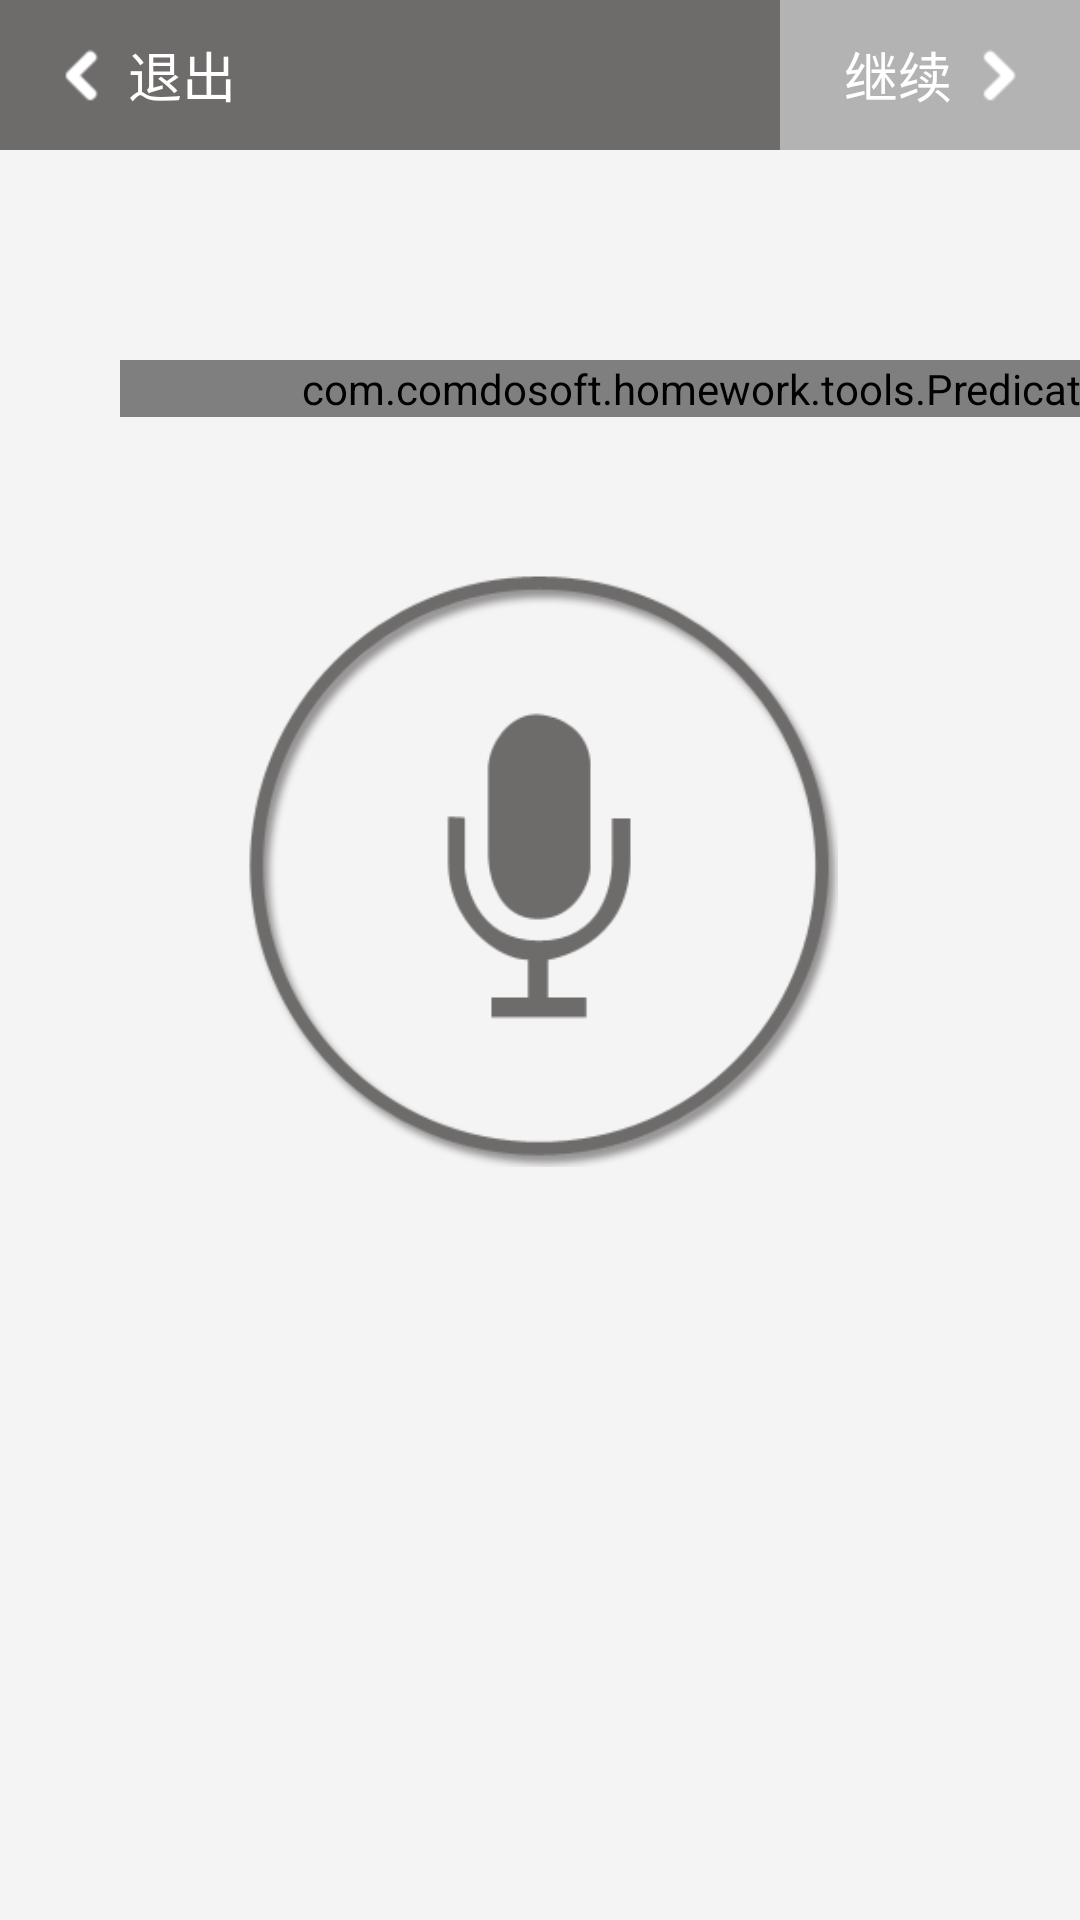

Where to tap for icons on this 1080px×1920px app screen, as (x=x, y=y):
left: (x=81, y=75)
right: (x=999, y=75)
